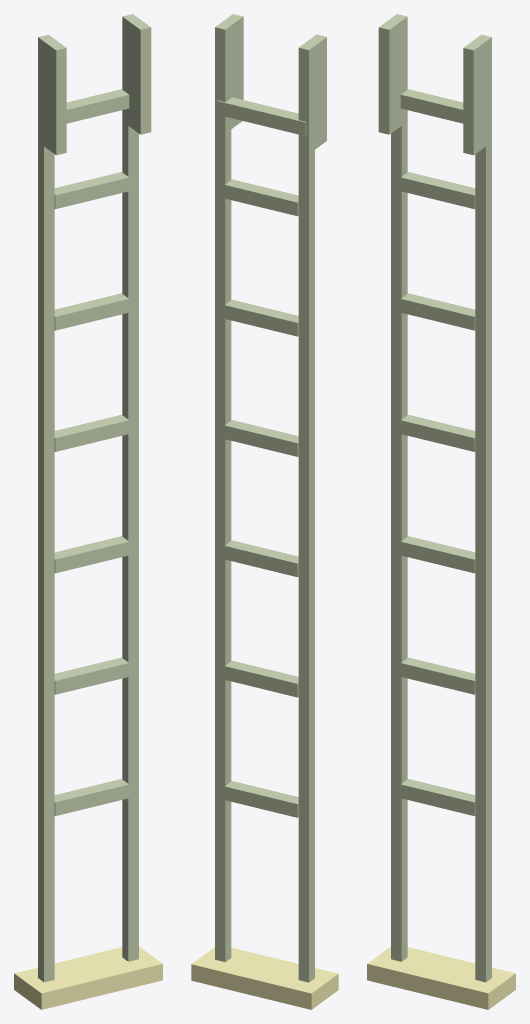
The model's file is furniture_signal_cantilever_service_ladder.glb.
The picture shows the model from 3 angles, left to right: view 1: azimuth 30°, elevation 25°; view 2: azimuth 150°, elevation 25°; view 3: azimuth 330°, elevation 25°; orthographic projection.
Visible parts, largest first — view 1: rail_left, rail_right, base_pad, top_hook_left, top_hook_right, rung_1, rung_2, rung_4, rung_5, rung_3, rung_0, top_step; view 2: rail_left, rail_right, base_pad, top_hook_right, top_hook_left, top_step, rung_2, rung_4, rung_3, rung_5, rung_0, rung_1; view 3: rail_right, rail_left, base_pad, top_hook_left, top_hook_right, rung_1, rung_2, rung_4, rung_5, rung_3, rung_0, top_step.
Boxes of the visible parts, <box> form: rail_left: <box>38,90,54,982</box>; rail_right: <box>122,69,138,961</box>; base_pad: <box>14,946,162,1009</box>; top_hook_left: <box>38,34,66,155</box>; top_hook_right: <box>122,14,151,134</box>; rung_1: <box>54,657,129,694</box>; rung_2: <box>54,536,129,573</box>; rung_4: <box>54,293,129,330</box>; rung_5: <box>54,172,129,209</box>; rung_3: <box>54,414,129,451</box>; rung_0: <box>54,779,129,815</box>; top_step: <box>66,89,129,123</box>; rail_left: <box>298,98,314,982</box>; rail_right: <box>215,78,231,962</box>; base_pad: <box>191,947,338,1009</box>; top_hook_right: <box>215,14,243,133</box>; top_hook_left: <box>298,34,326,153</box>; top_step: <box>216,97,306,135</box>; rung_2: <box>224,540,298,577</box>; rung_4: <box>224,299,298,336</box>; rung_3: <box>224,420,298,456</box>; rung_5: <box>224,179,298,216</box>; rung_0: <box>224,781,298,817</box>; rung_1: <box>224,660,298,697</box>; rail_right: <box>475,90,491,982</box>; rail_left: <box>391,69,407,961</box>; base_pad: <box>367,946,515,1009</box>; top_hook_left: <box>378,14,407,134</box>; top_hook_right: <box>463,34,491,155</box>; rung_1: <box>400,657,475,694</box>; rung_2: <box>400,536,475,573</box>; rung_4: <box>400,293,475,330</box>; rung_5: <box>400,172,475,209</box>; rung_3: <box>400,414,475,451</box>; rung_0: <box>400,779,475,815</box>; top_step: <box>400,89,463,123</box>.
Bounding box in the file's own units: 0.46 × 3.47 × 0.19.
